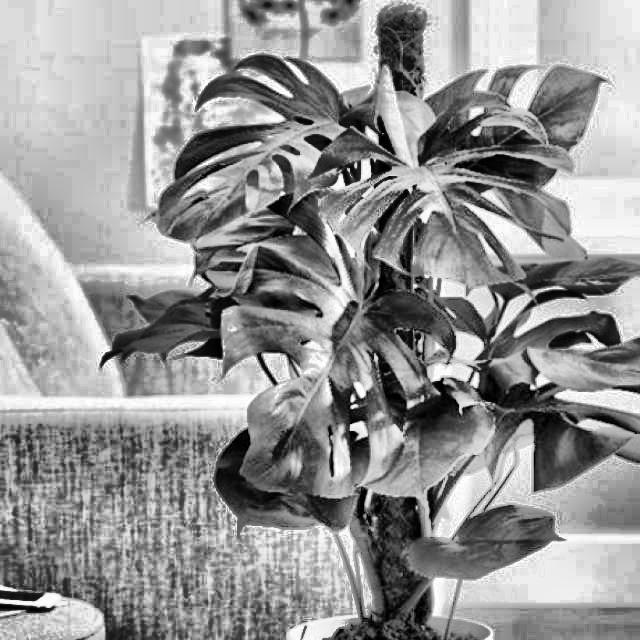plants: (187, 48, 637, 640)
